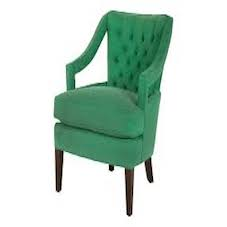chair: (34, 2, 181, 217)
